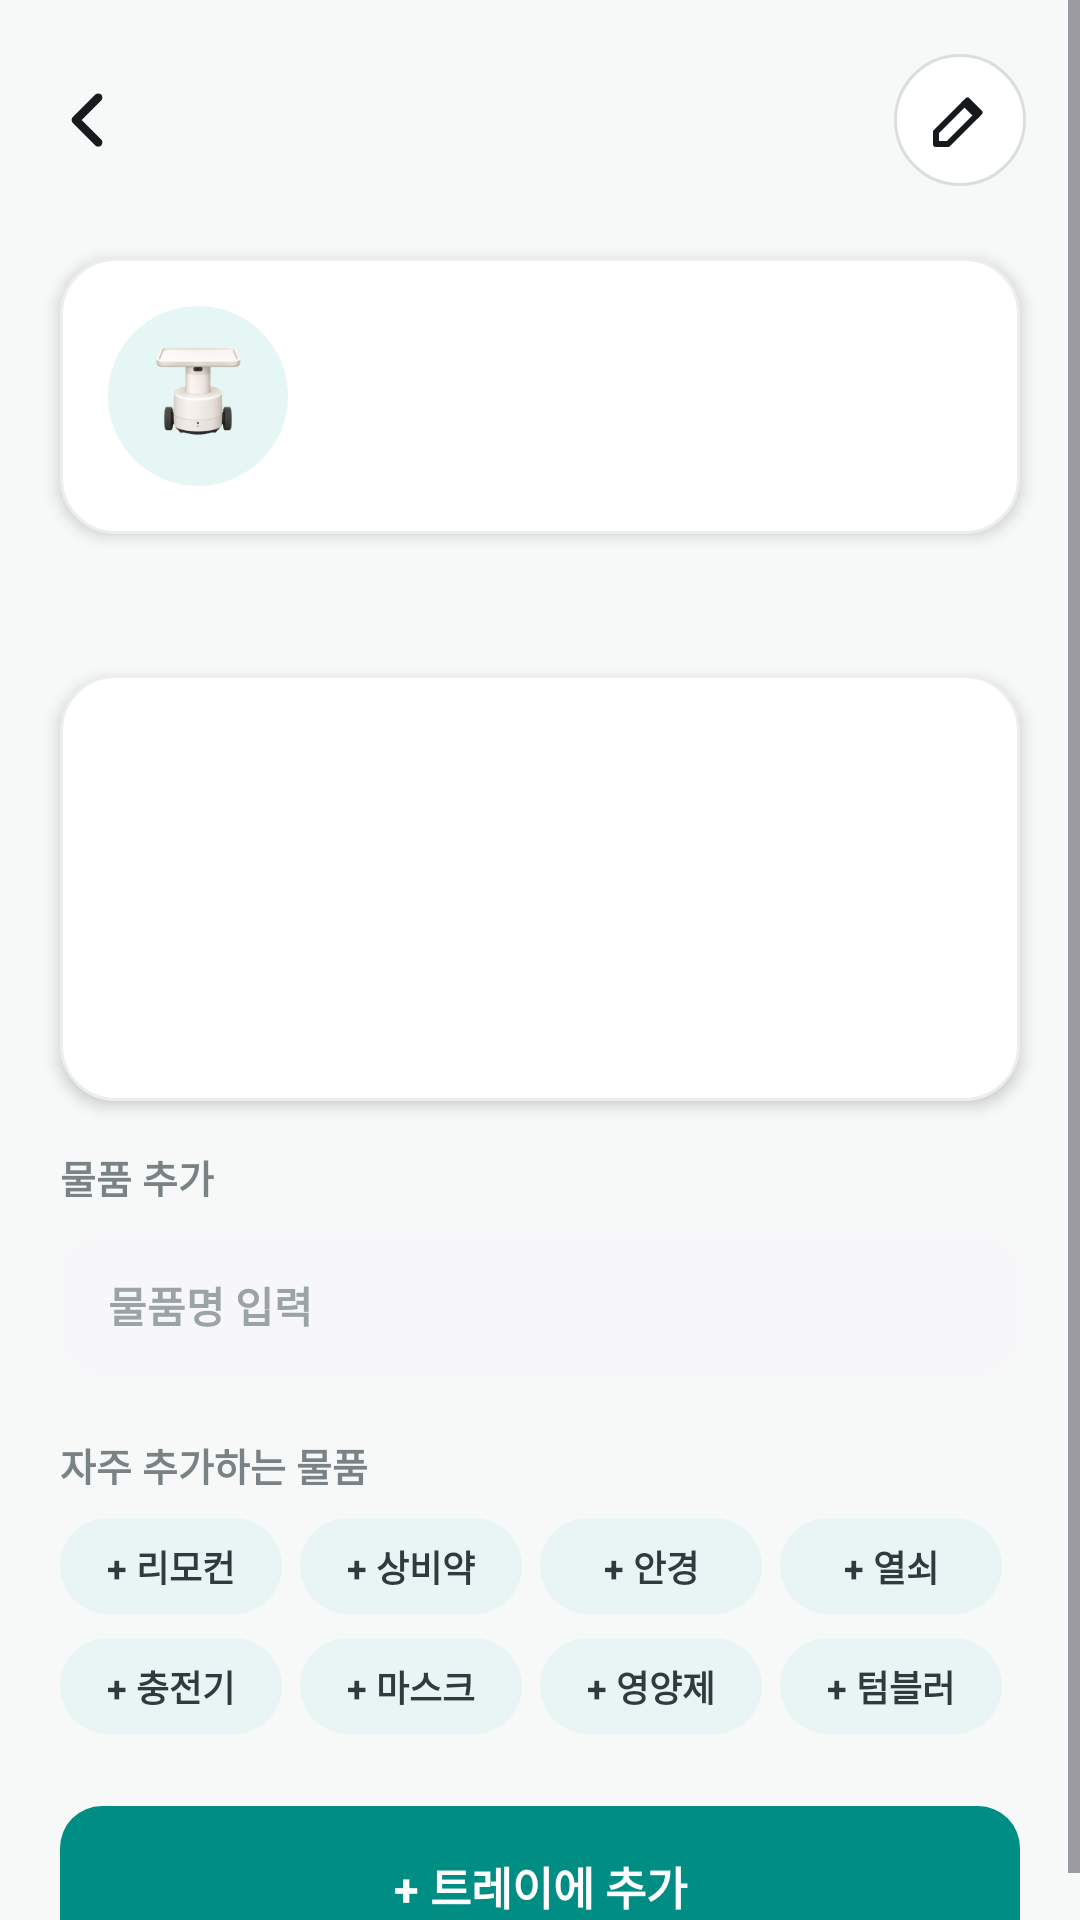

Icons on this 1080w x 1920h Android screen, each with its box as (x1, y1, x2, y2):
carry product: (156, 348, 240, 435)
chevron left: (71, 93, 103, 147)
edit: (933, 97, 983, 147)
